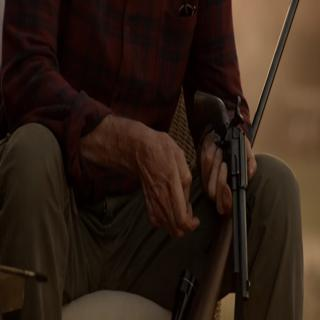gun: (189, 80, 256, 307)
